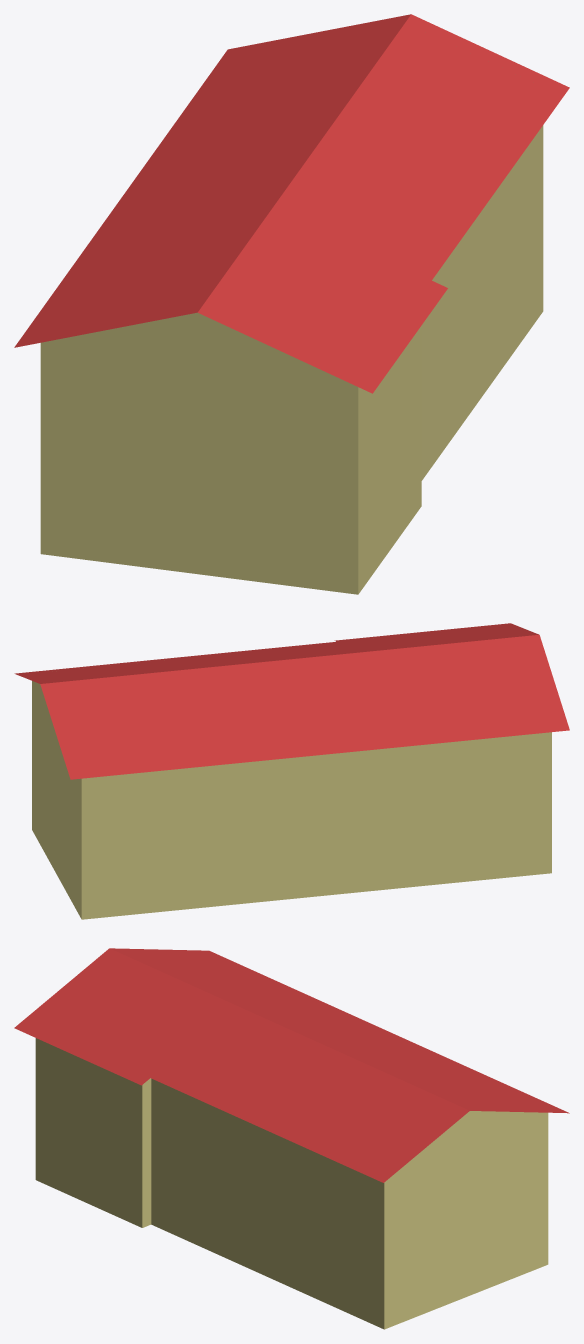
3 renders of one model, top to bottom at view 1: azimuth 30°, elevation 25°; view 2: azimuth 150°, elevation 25°; view 3: azimuth 270°, elevation 25°, orthographic. The views are drawn at different scales.
Size of the model in its own units: 27.31 by 27.14 by 10.43.
